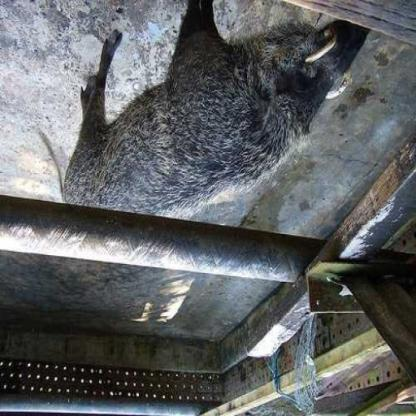boar: (20, 1, 412, 230)
